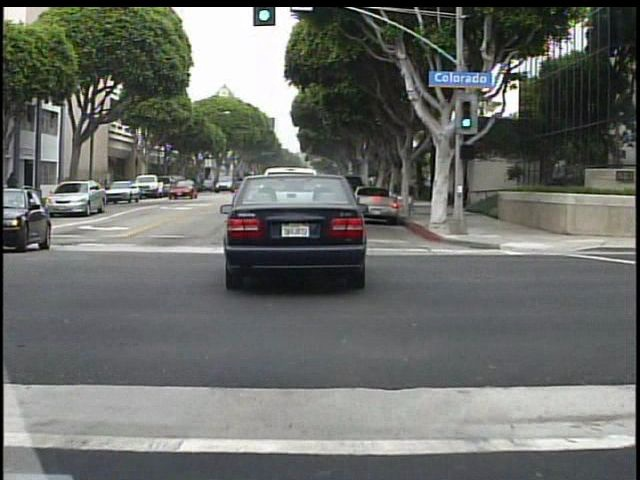person: (7, 169, 25, 209)
